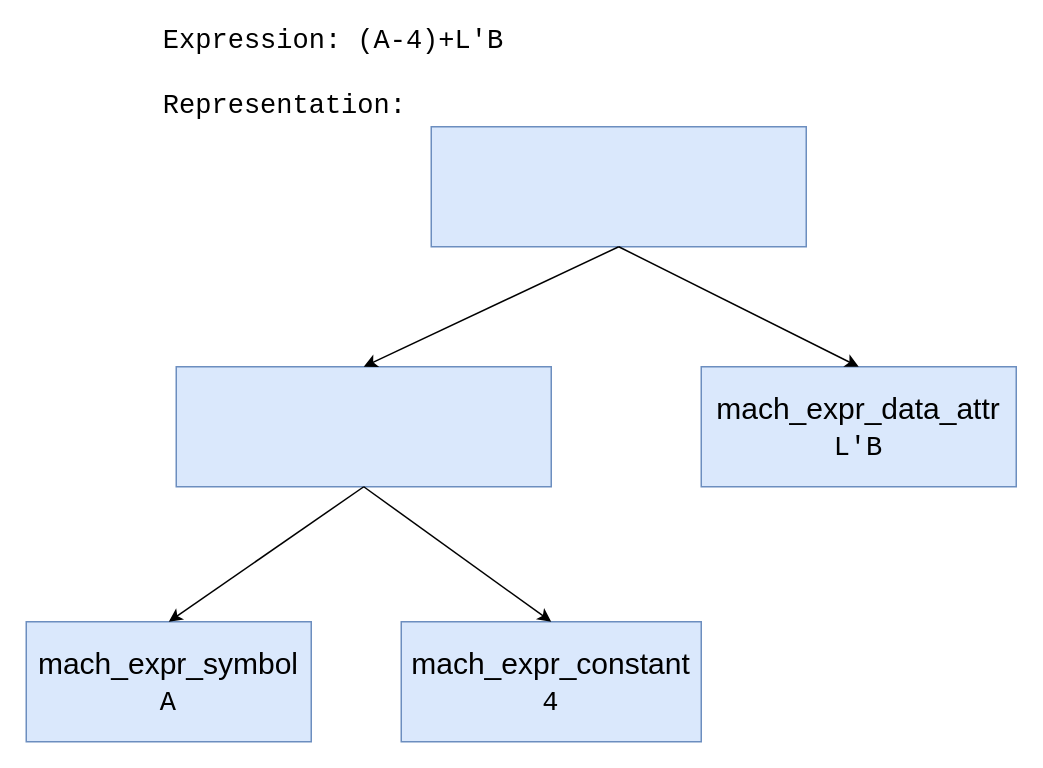
The diagram is 1043 pixels wide and 768 high, and some of its shapes have lost their labels. Each missing label, with the centre of its shape:
"mach_expr_binary<add> (A-4)+L'B" belongs at point (618, 186).
"mach_expr_binary<sub> A-4" belongs at point (363, 426).
